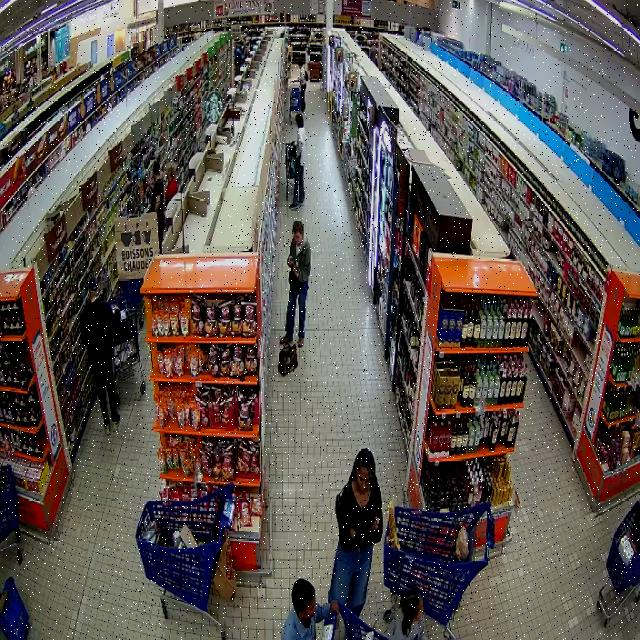bags: (278, 344, 297, 374)
hands: (330, 600, 339, 628), (330, 600, 339, 614), (370, 517, 379, 531), (292, 265, 299, 277), (112, 304, 120, 314), (350, 528, 356, 540), (288, 256, 293, 267)
person: (328, 448, 383, 613), (81, 277, 119, 433), (280, 219, 311, 347), (281, 578, 337, 639), (390, 589, 425, 639)
